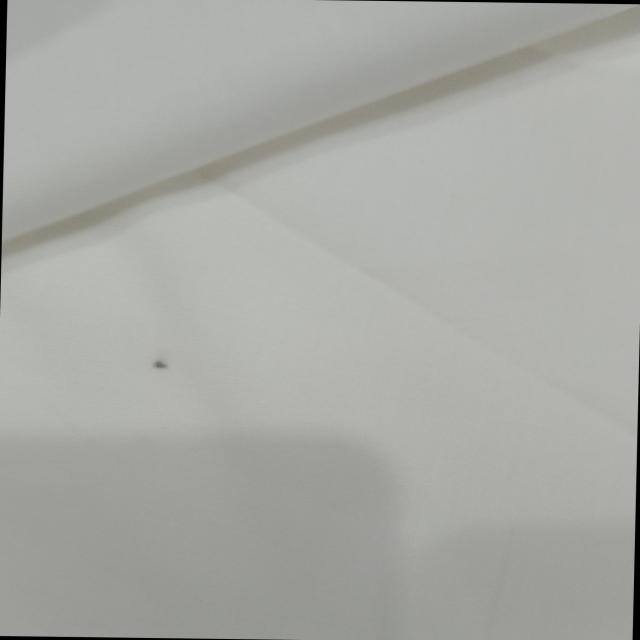stain: (141, 354, 179, 376)
